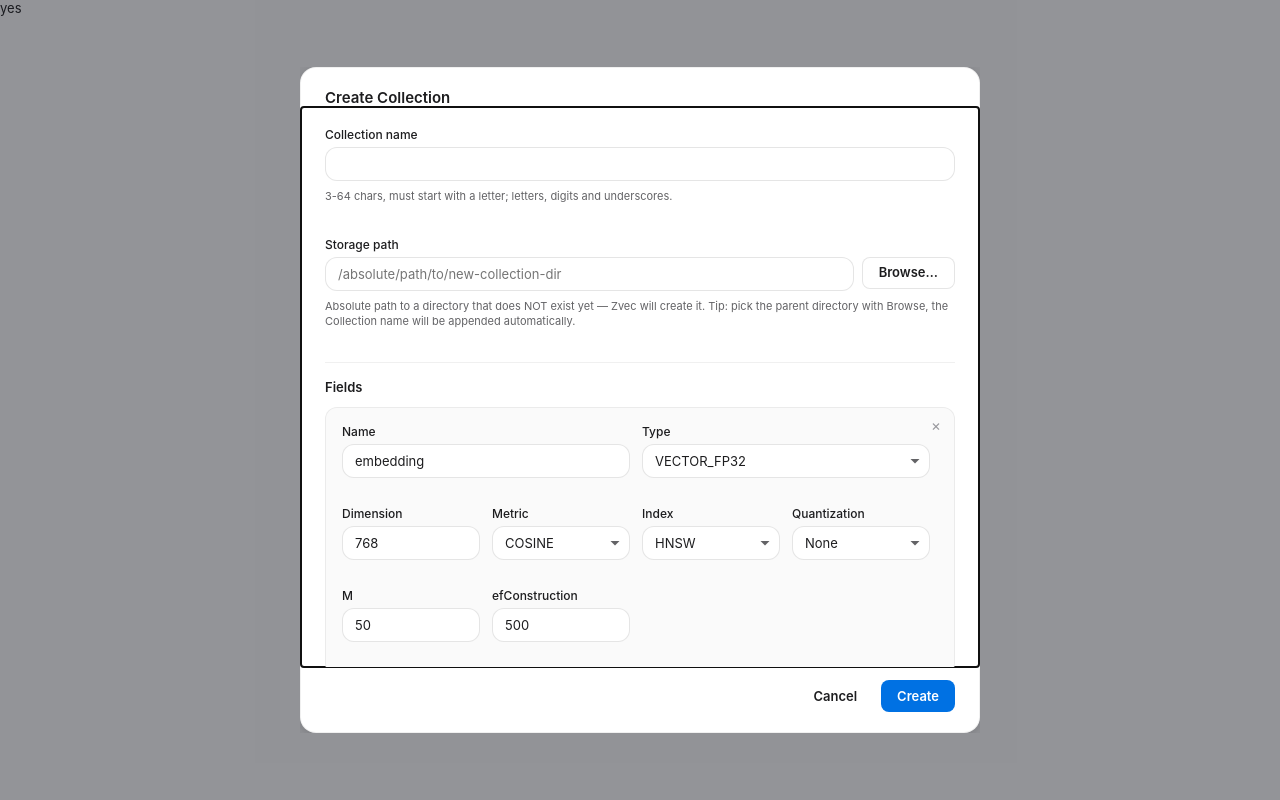
Test: <CreateCollectionDialog /> › rejects an invalid name format
This screenshot has width=1280, height=800.
Type "1bad name" into the field with test id "zv-create-name" at (640, 164), box [325,147,955,181]
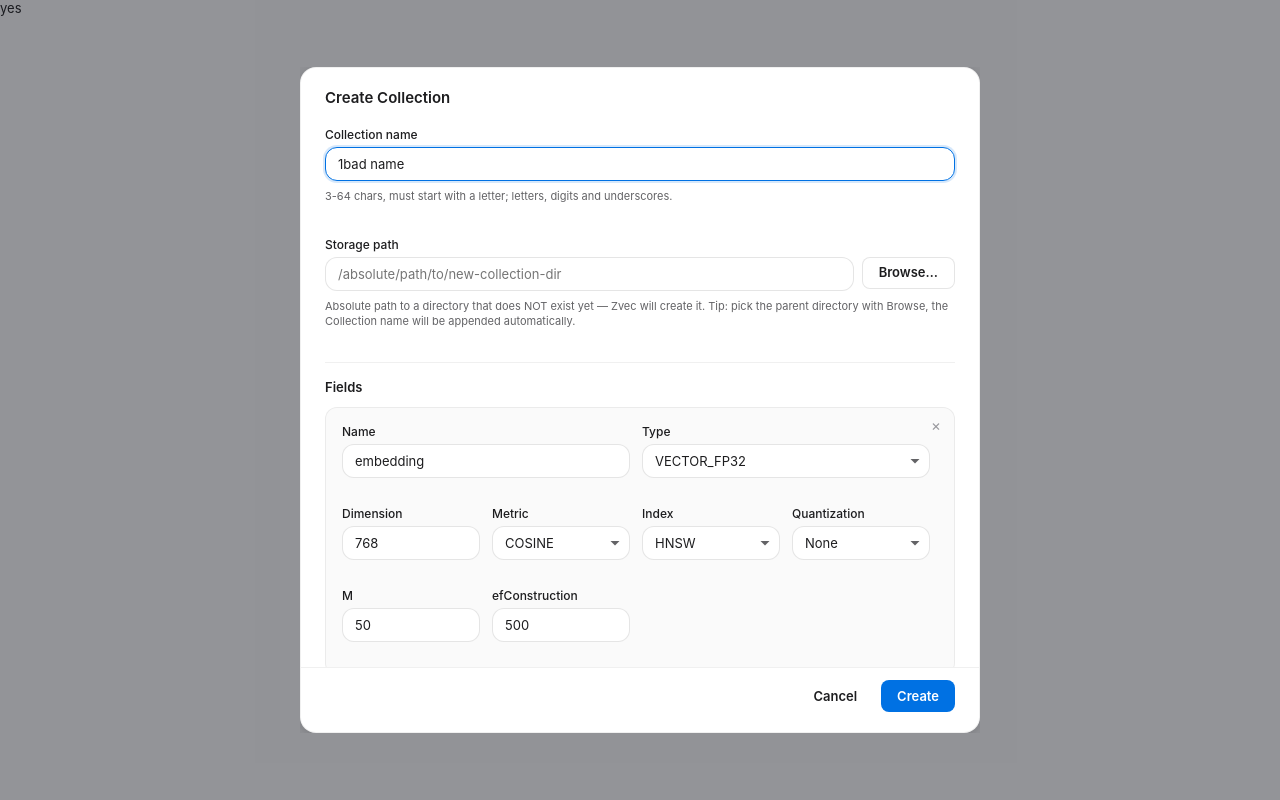
Type "/tmp/foo" into the field with test id "zv-create-path" at (589, 274), box [325,257,854,291]
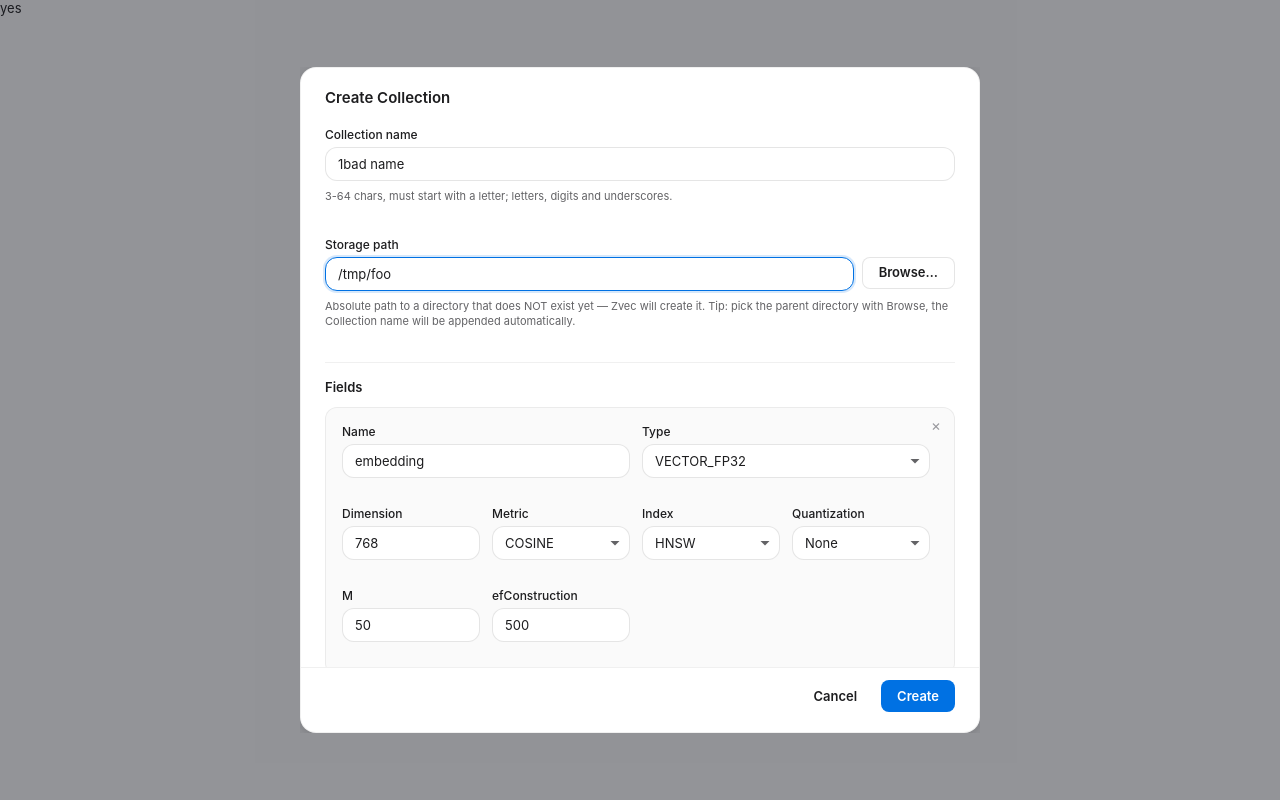
Click the button with test id "zv-create-submit" at (918, 696), box [881,680,955,712]
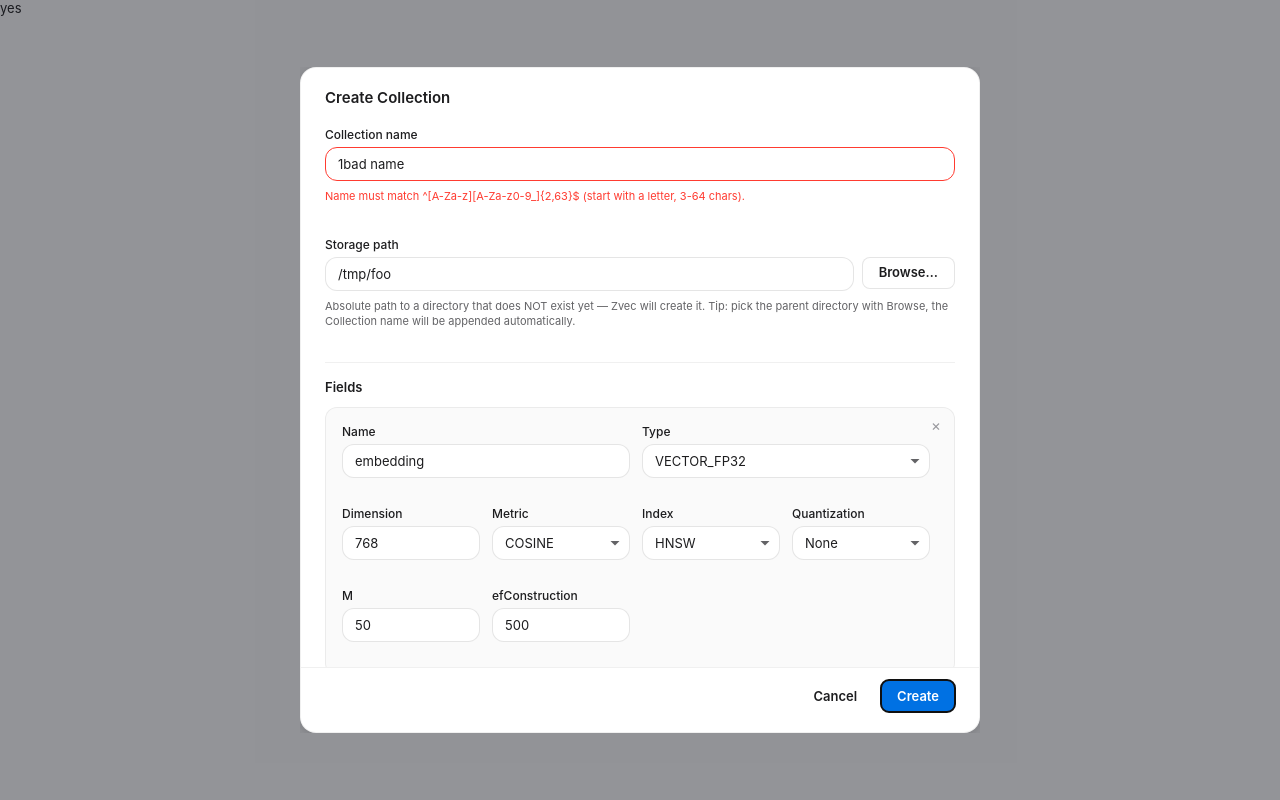
Expected: the text "Name must match ^[A-Za-z]" is shown, [325,189,745,203]
